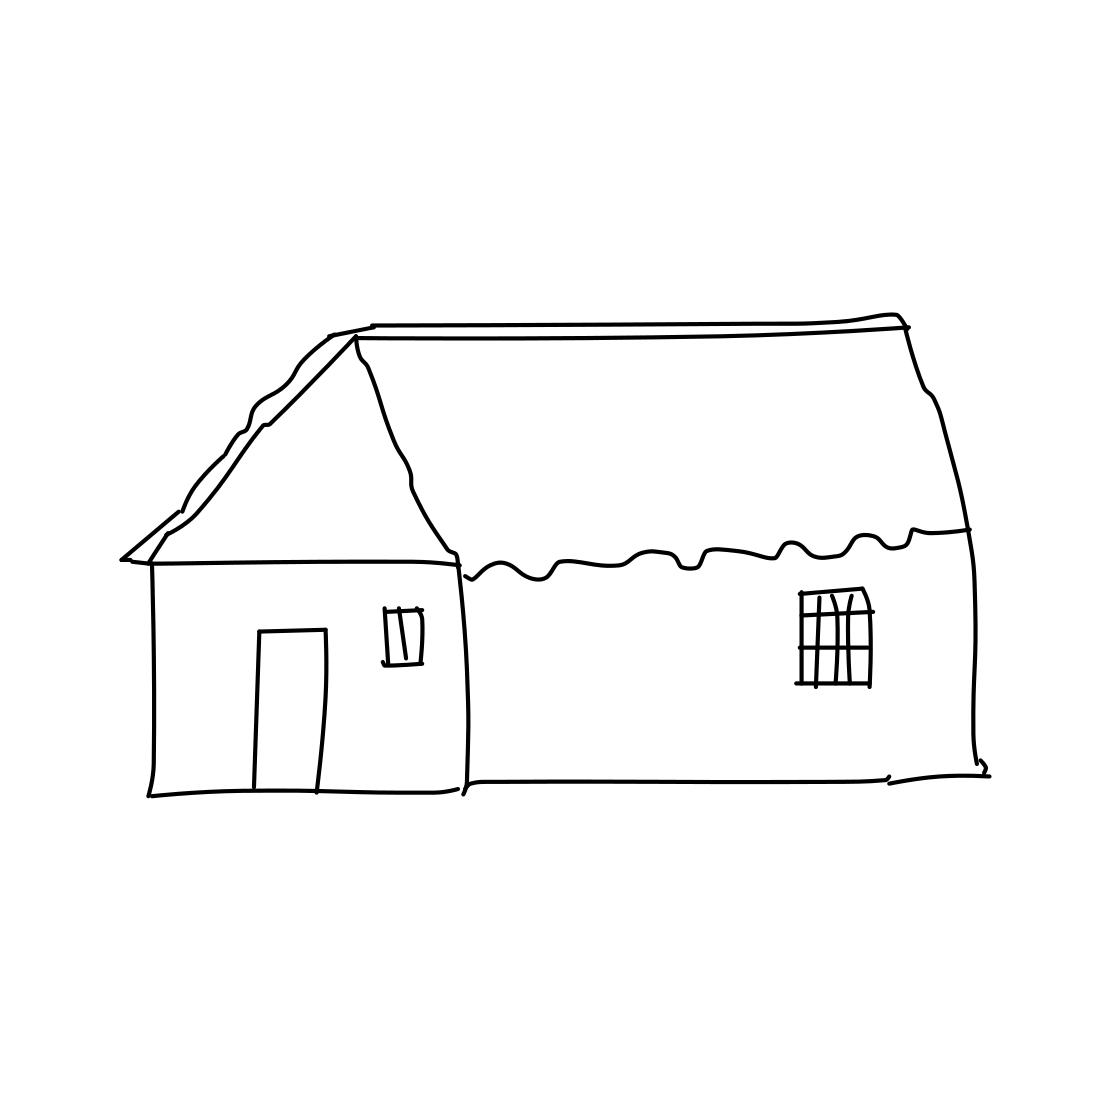House: (66, 284, 1038, 847)
